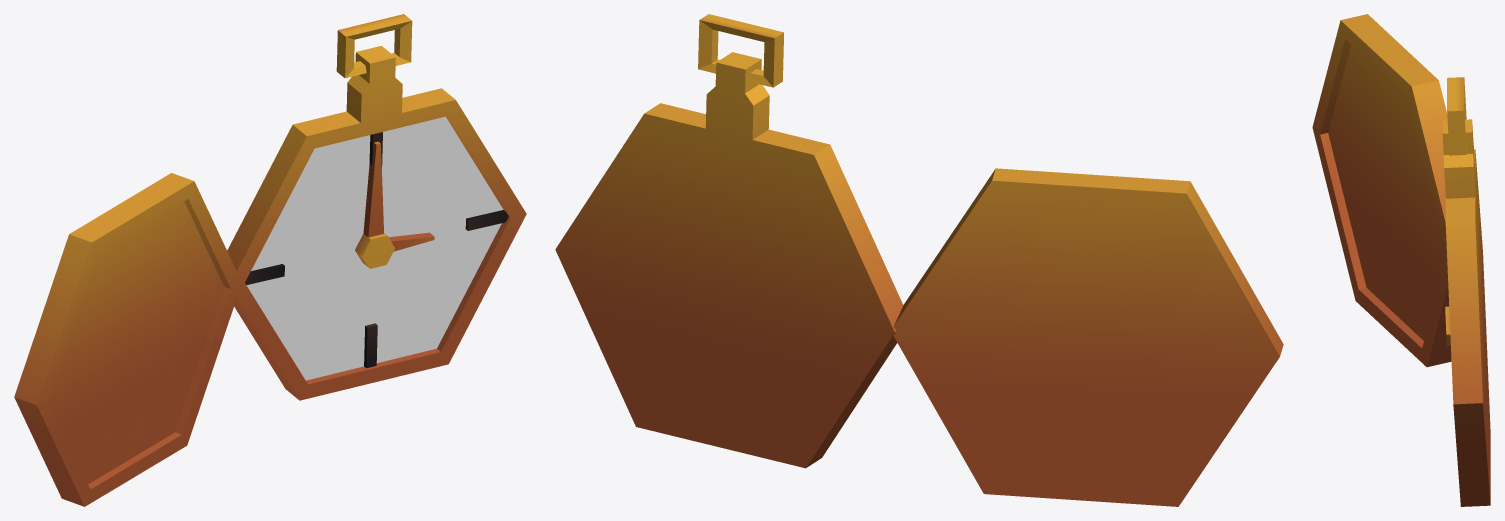
Rendered from Watch01.fbx.
The picture shows the model from 3 angles, left to right: view 1: azimuth 30°, elevation 25°; view 2: azimuth 150°, elevation 25°; view 3: azimuth 270°, elevation 25°; orthographic projection. The views are drawn at different scales.
Parts seen in each view (by area): view 1: Clock01; view 2: Clock01; view 3: Clock01.
Boxes of the visible parts, bbox=[...] form: Clock01: bbox=[14, 14, 526, 506]; Clock01: bbox=[555, 14, 1283, 506]; Clock01: bbox=[1312, 14, 1490, 506].
Size of the model in its own units: 44.01 by 26.99 by 11.49.
1 material, 1 textured.
